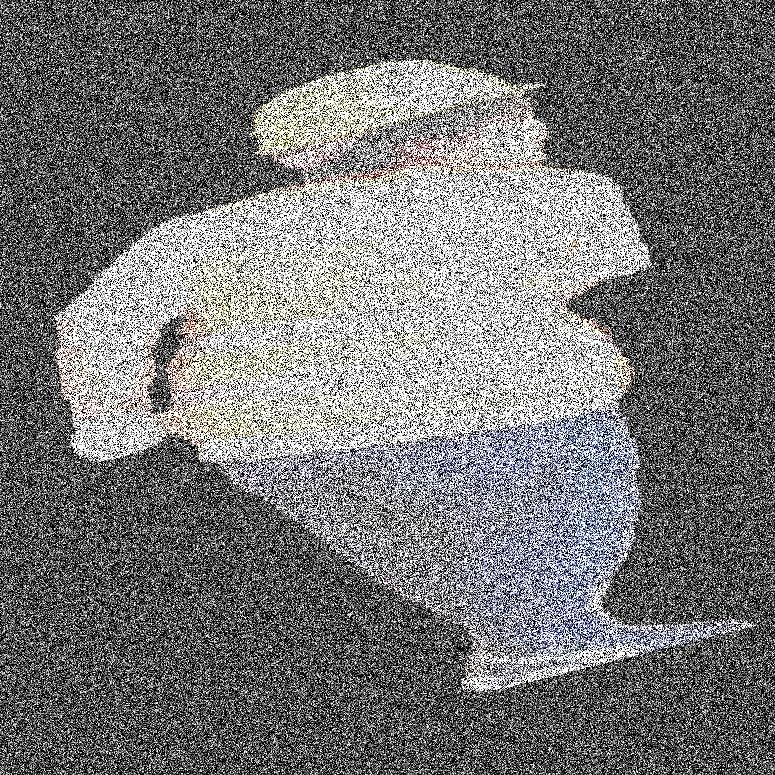Pessoa: (311, 0, 570, 774)
